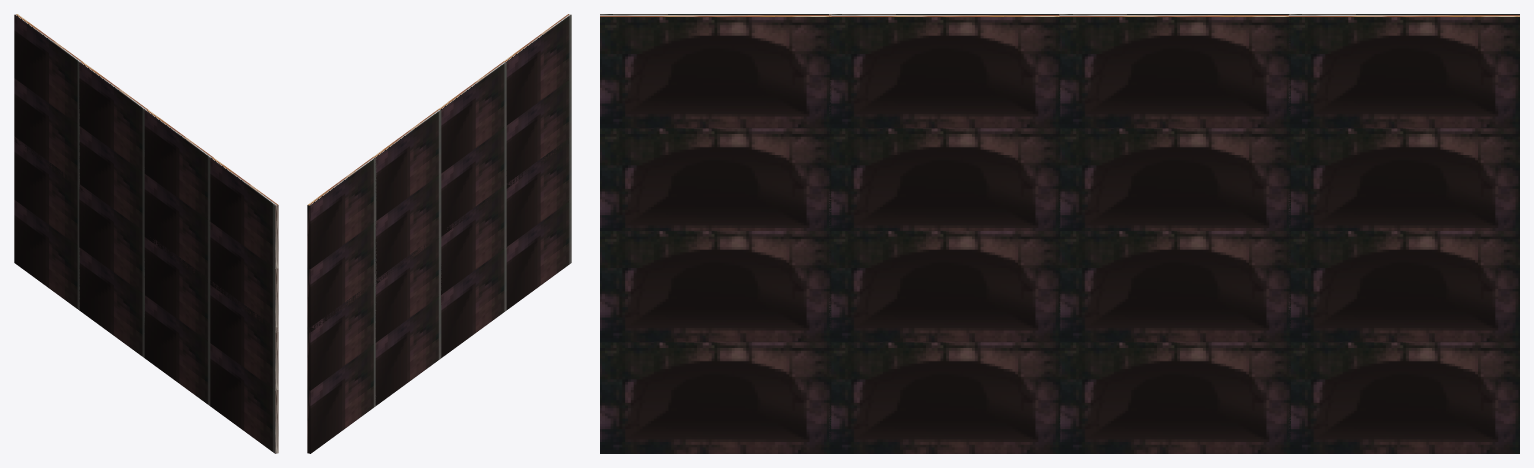
Rendered from CatWall.obj.
3 renders of one model, left to right at view 1: azimuth 30°, elevation 25°; view 2: azimuth 150°, elevation 25°; view 3: azimuth 270°, elevation 25°, orthographic. The views are drawn at different scales.
Visible parts, largest first — view 1: Cube.001; view 2: Cube.001; view 3: Cube.001.
Boxes of the visible parts, bbox=[...] form: Cube.001: bbox=[14, 14, 278, 453]; Cube.001: bbox=[307, 14, 571, 453]; Cube.001: bbox=[600, 14, 1519, 453].
Size of the model in its own units: 0.6129 by 43.62 by 83.19.
1 material, 1 textured.
